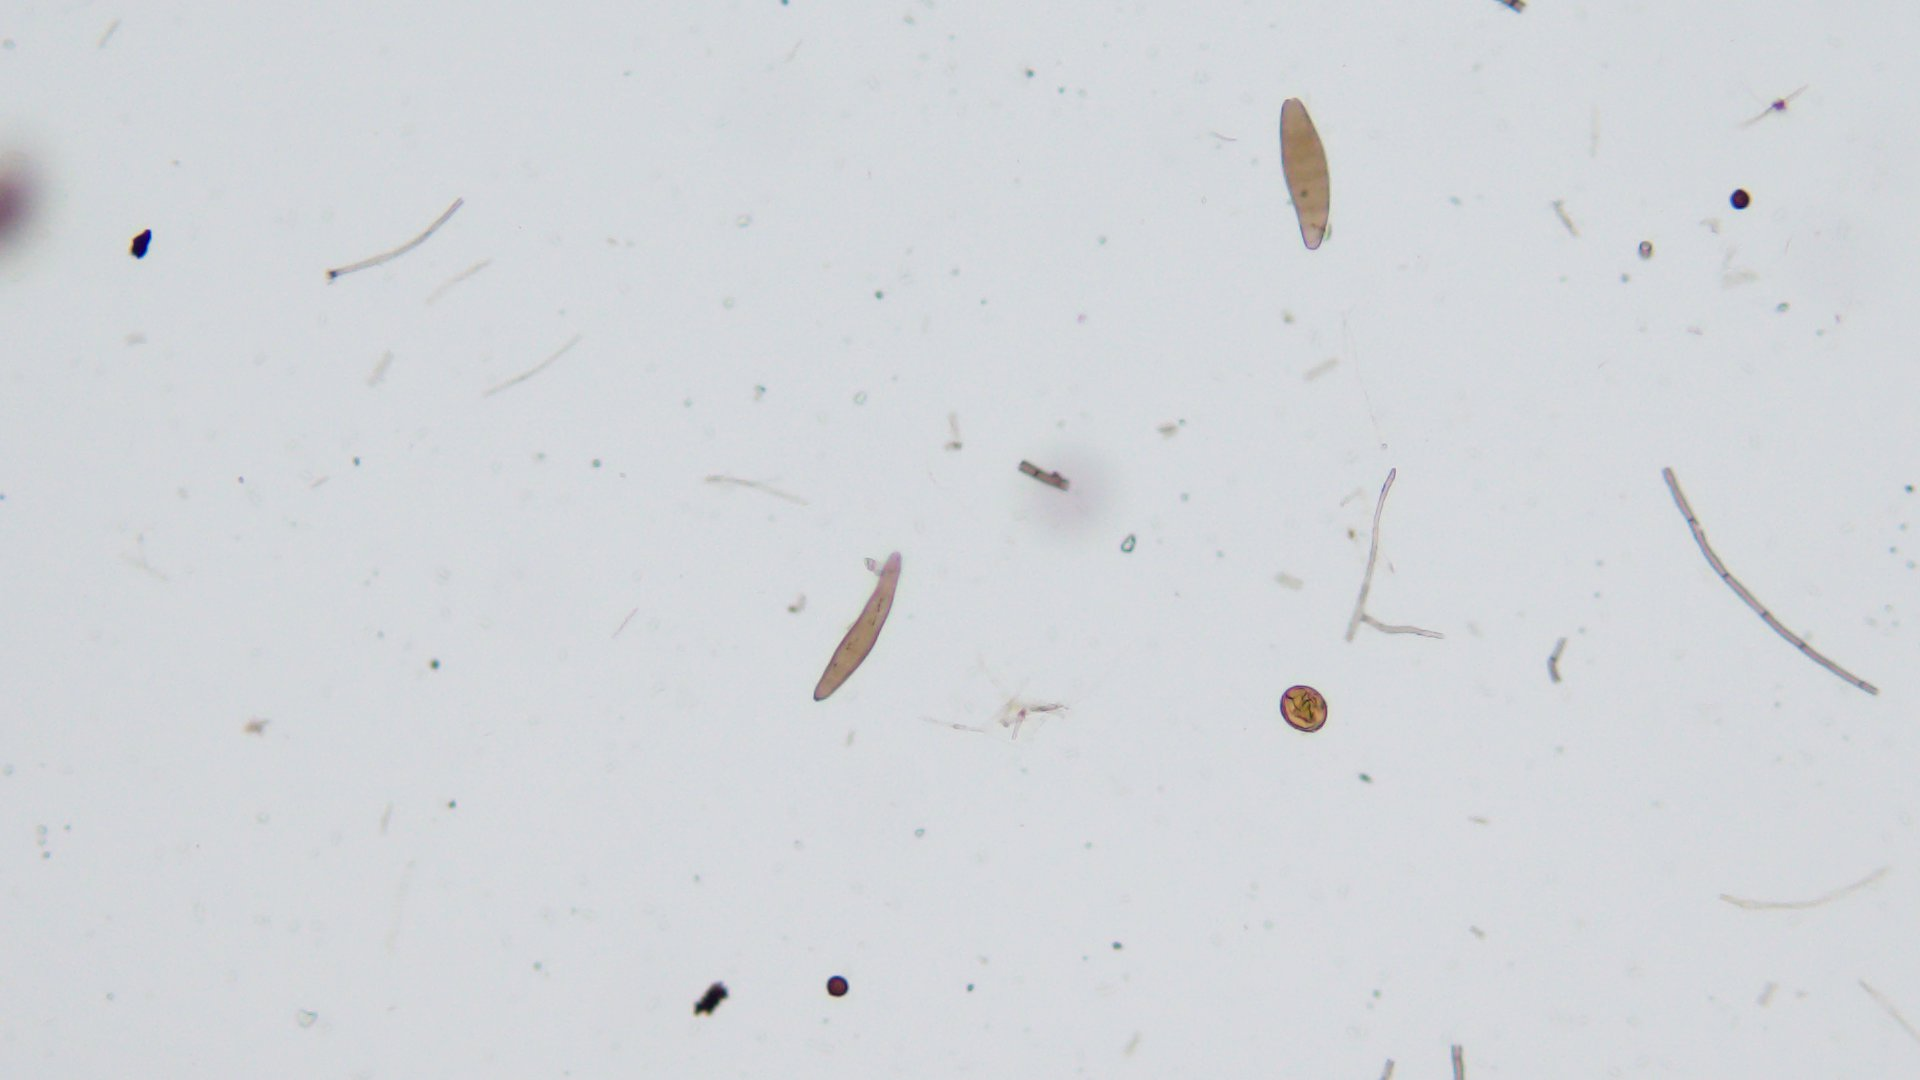dbb_spore: (814, 555, 902, 705), (1274, 98, 1333, 251)
shs_spore: (824, 975, 851, 998), (1727, 189, 1749, 208)
xb_spore: (1278, 684, 1327, 732)
